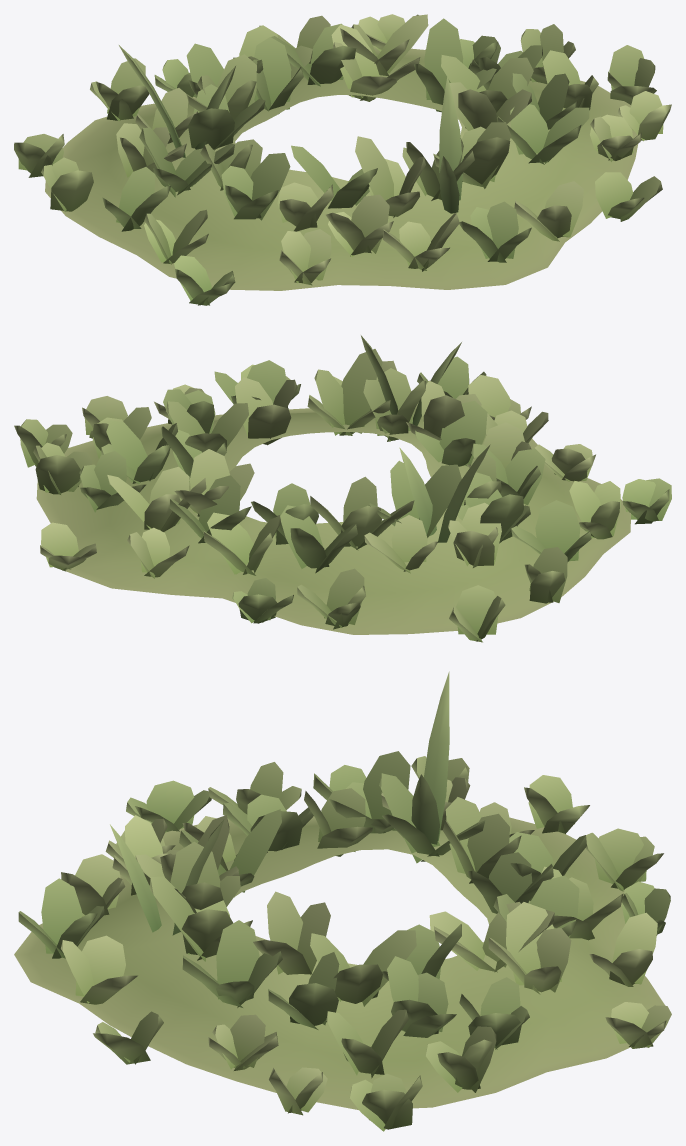
File: patch_ring_b.glb
3 renders of one model, top to bottom at view 1: azimuth 30°, elevation 25°; view 2: azimuth 150°, elevation 25°; view 3: azimuth 270°, elevation 25°, orthographic. The views are drawn at different scales.
Visible parts, largest first — view 1: Patch_Ring_B.001; view 2: Patch_Ring_B.001; view 3: Patch_Ring_B.001.
Part boxes in pixels (bbox=[...]): Patch_Ring_B.001: bbox=[14, 14, 671, 305]; Patch_Ring_B.001: bbox=[14, 335, 671, 642]; Patch_Ring_B.001: bbox=[14, 671, 671, 1131].
Size of the model in its own units: 1.25 by 0.3326 by 1.06.
